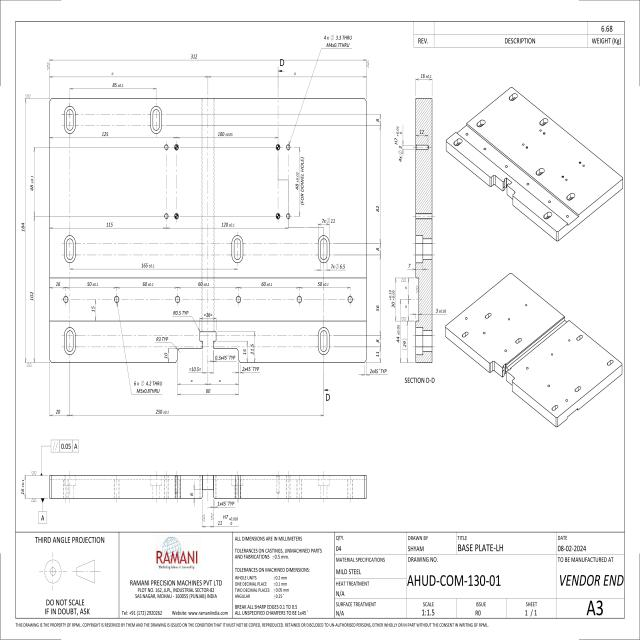dimension: (295, 155, 305, 206), (133, 380, 163, 394), (323, 35, 352, 48), (393, 126, 402, 162), (217, 513, 239, 526), (388, 288, 396, 308), (214, 354, 236, 361), (217, 500, 235, 508), (330, 262, 346, 270), (241, 366, 260, 372), (173, 309, 189, 316), (28, 174, 34, 192), (369, 368, 387, 374), (321, 217, 335, 224), (217, 131, 233, 137), (140, 262, 155, 268), (111, 82, 125, 88), (221, 222, 235, 228), (155, 408, 169, 414), (197, 281, 210, 287), (317, 281, 330, 287), (420, 72, 433, 78), (401, 339, 408, 350), (396, 324, 400, 343), (86, 281, 98, 287), (142, 281, 154, 287), (261, 281, 273, 287), (20, 478, 24, 496), (435, 308, 447, 314), (156, 336, 168, 342), (188, 367, 202, 372), (250, 343, 255, 355), (29, 291, 34, 302), (101, 131, 109, 137), (90, 305, 96, 312), (190, 54, 198, 59), (20, 222, 24, 232), (204, 312, 212, 317), (55, 281, 61, 287), (205, 388, 211, 394), (54, 408, 60, 414), (419, 128, 425, 134), (375, 303, 379, 312), (106, 222, 113, 227), (242, 348, 247, 355), (375, 205, 380, 212), (375, 351, 380, 358), (375, 117, 380, 123), (375, 337, 380, 343), (164, 352, 168, 359), (189, 491, 194, 496), (375, 246, 380, 251), (408, 263, 411, 268)
